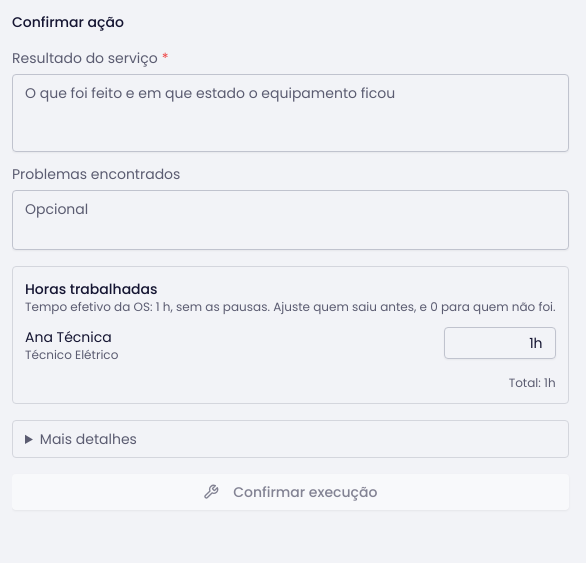
Test: ActionConfirmPanel — horas trabalhadas (SN-61) › sem as horas de alguém, ou com texto ilegível, não confirma e diz por quê
The width and height of the screenshot is (586, 563).
Step 1. Type "ok" into the text box labelled "Resultado do serviço*" → (290, 113), box [12, 74, 569, 152]
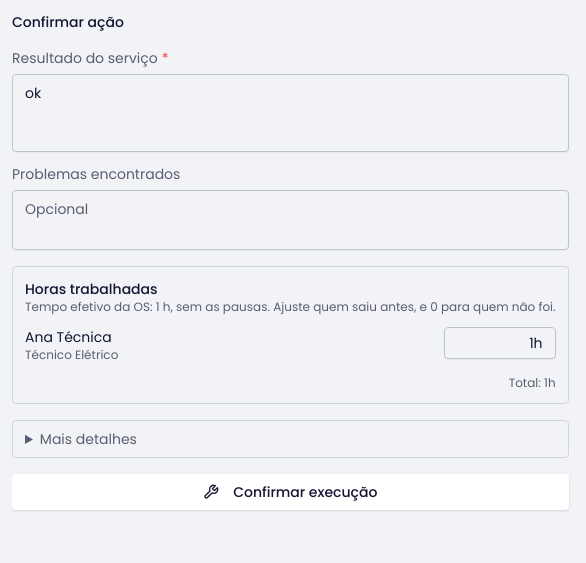
Now the button "Confirmar execução" is enabled, box [12, 474, 569, 510]
Step 2. Clear the field labelled "Ana Técnica" → (500, 343), box [444, 327, 556, 359]
Step 3. Leave the field labelled "Ana Técnica", box [444, 327, 556, 359]
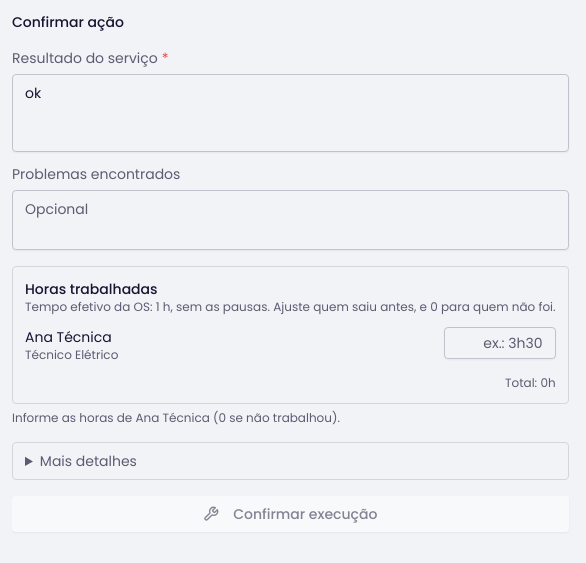
Now the button "Confirmar execução" is disabled, box [12, 496, 569, 532]
Now the text "Informe as horas de Ana Técnica (0 se não trabalhou)." is shown, box [12, 409, 340, 426]
Step 4. Type "1h" into the field labelled "Ana Técnica" → (500, 343), box [444, 327, 556, 359]
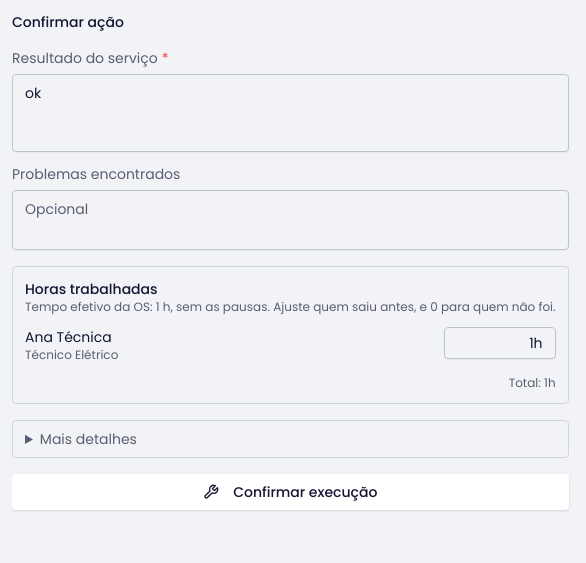
Step 5. Replace the text in the field labelled "Ana Técnica" with "uma hora" → (500, 343), box [444, 327, 556, 359]
Step 6. Leave the field labelled "Ana Técnica", box [444, 327, 556, 359]
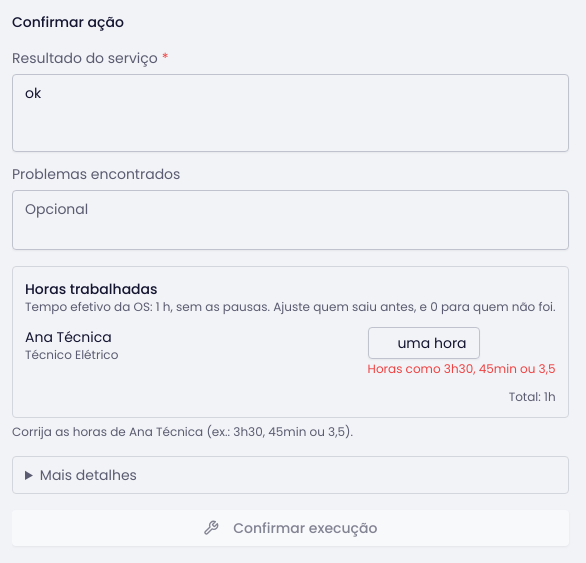
Now the button "Confirmar execução" is disabled, box [12, 510, 569, 546]
Now the text "Corrija as horas de Ana Técnica (ex.: 3h30, 45min ou 3,5)." is shown, box [12, 423, 353, 440]
Step 7. Replace the text in the field labelled "Ana Técnica" with "45min" → (424, 343), box [368, 327, 480, 359]
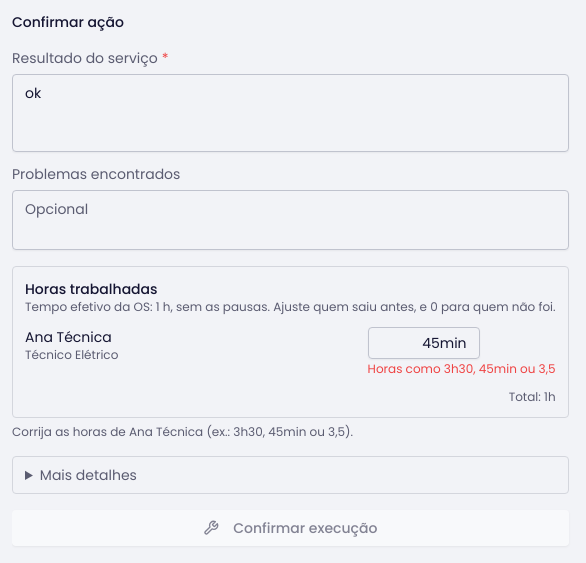
Step 8. Leave the field labelled "Ana Técnica", box [368, 327, 480, 359]
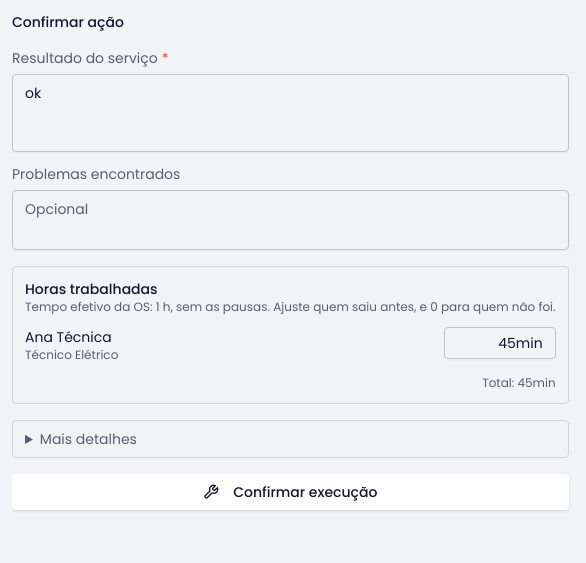
Now the button "Confirmar execução" is enabled, box [12, 474, 569, 510]
